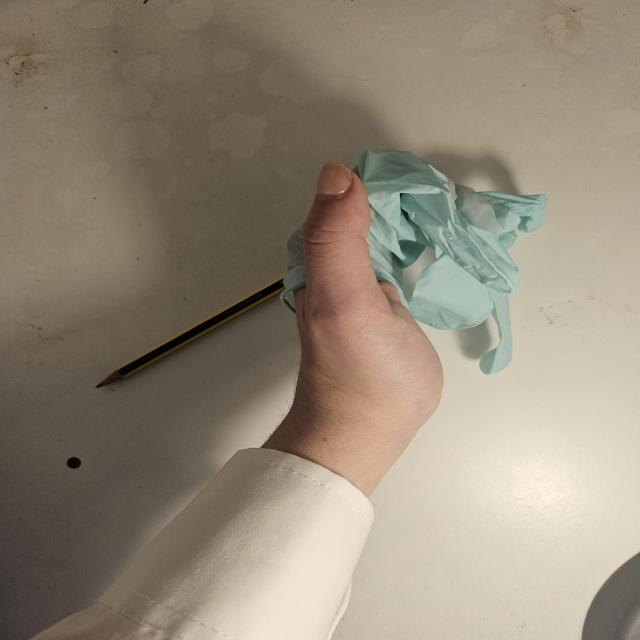glove_partial: (276, 147, 550, 410)
